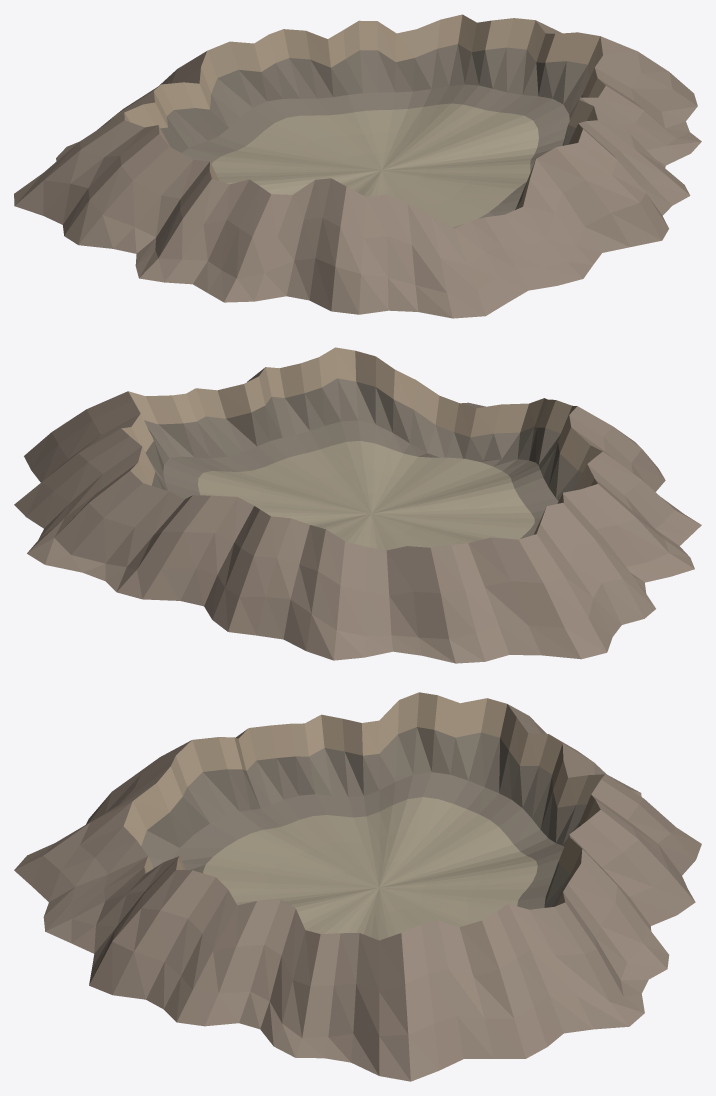
The picture shows the model from 3 angles, top to bottom: view 1: azimuth 30°, elevation 25°; view 2: azimuth 150°, elevation 25°; view 3: azimuth 270°, elevation 25°; orthographic projection. The views are drawn at different scales.
Visible parts, largest first — view 1: continuous_closed_volcanic_collapse_basin; view 2: continuous_closed_volcanic_collapse_basin; view 3: continuous_closed_volcanic_collapse_basin.
Part boxes in pixels (left/top/right/bottom): continuous_closed_volcanic_collapse_basin: left=14, top=14, right=701, bottom=318; continuous_closed_volcanic_collapse_basin: left=14, top=347, right=701, bottom=663; continuous_closed_volcanic_collapse_basin: left=14, top=692, right=701, bottom=1081.
Size of the model in its own units: 4276 by 587 by 3617.
